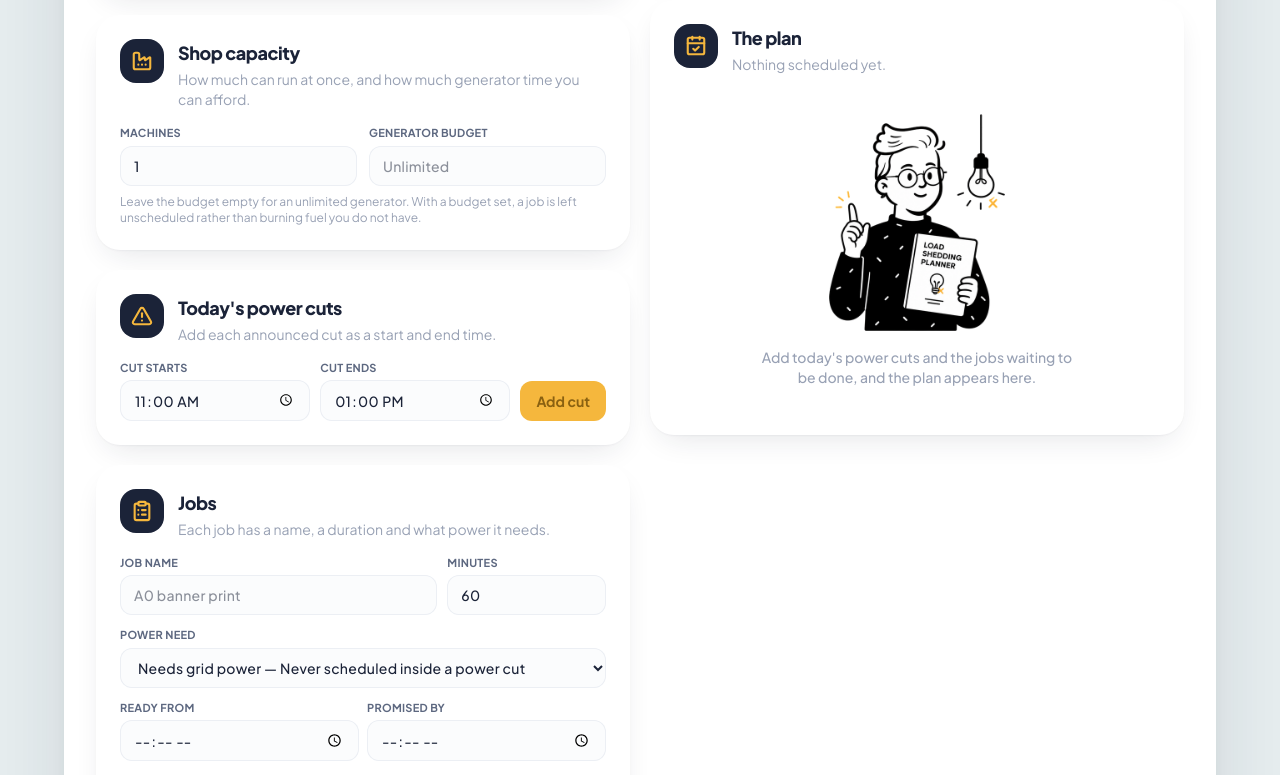
the planner in a browser › reports a job that cannot be scheduled instead of hiding it
(page scrolled)
Replace the text in the time field labelled "Cut starts" with "10:00": (215,401) [120,380,310,421]
Replace the text in the time field labelled "Cut ends" with "20:00": (415,401) [320,380,510,421]
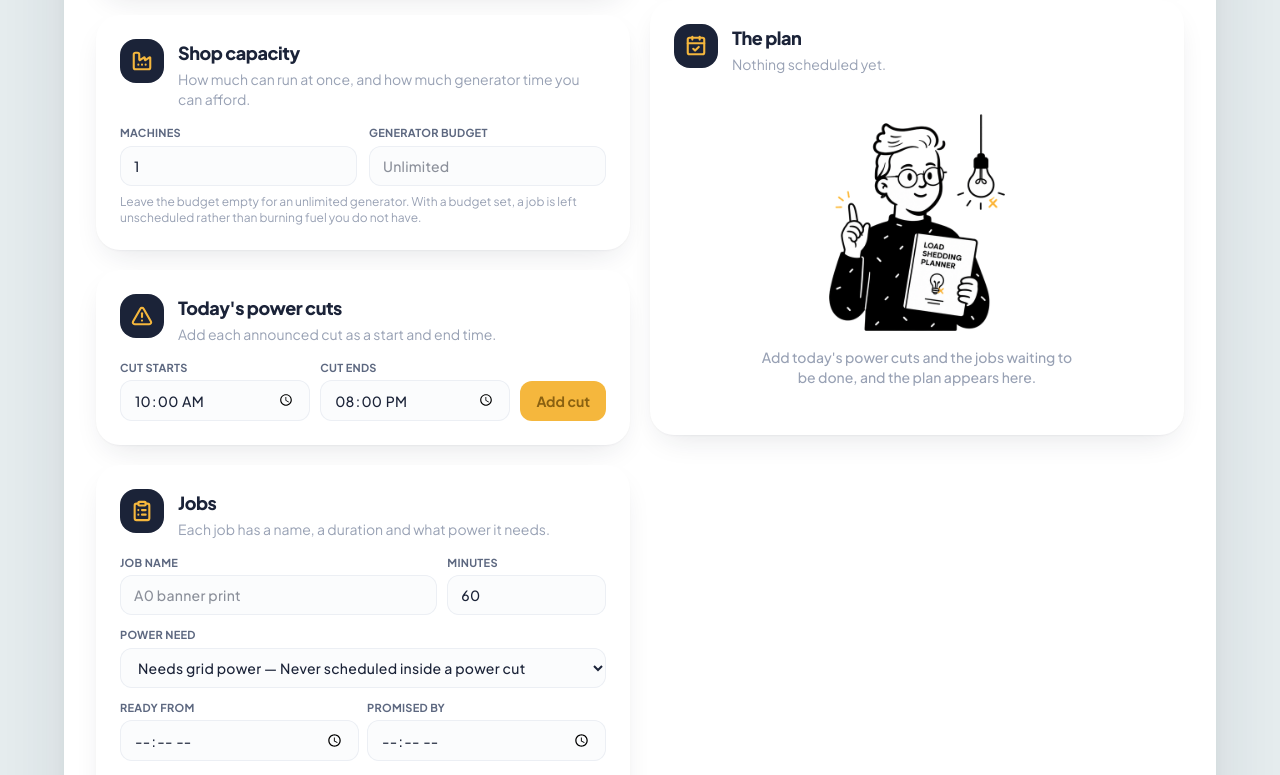
Click the button "Add cut": (563,401) [520,381,606,421]
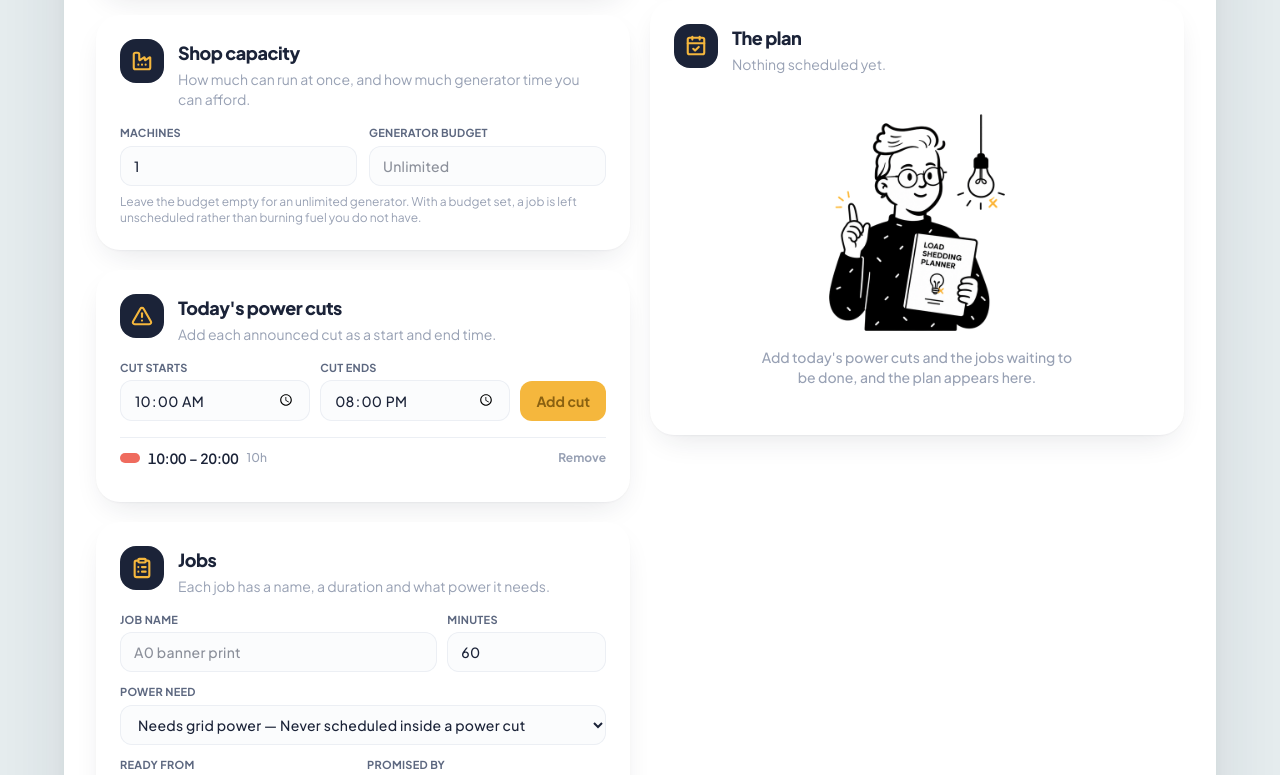
In the field with placeholder "A0 banner print": (279,652) [120,632,437,672], type "Large format poster"
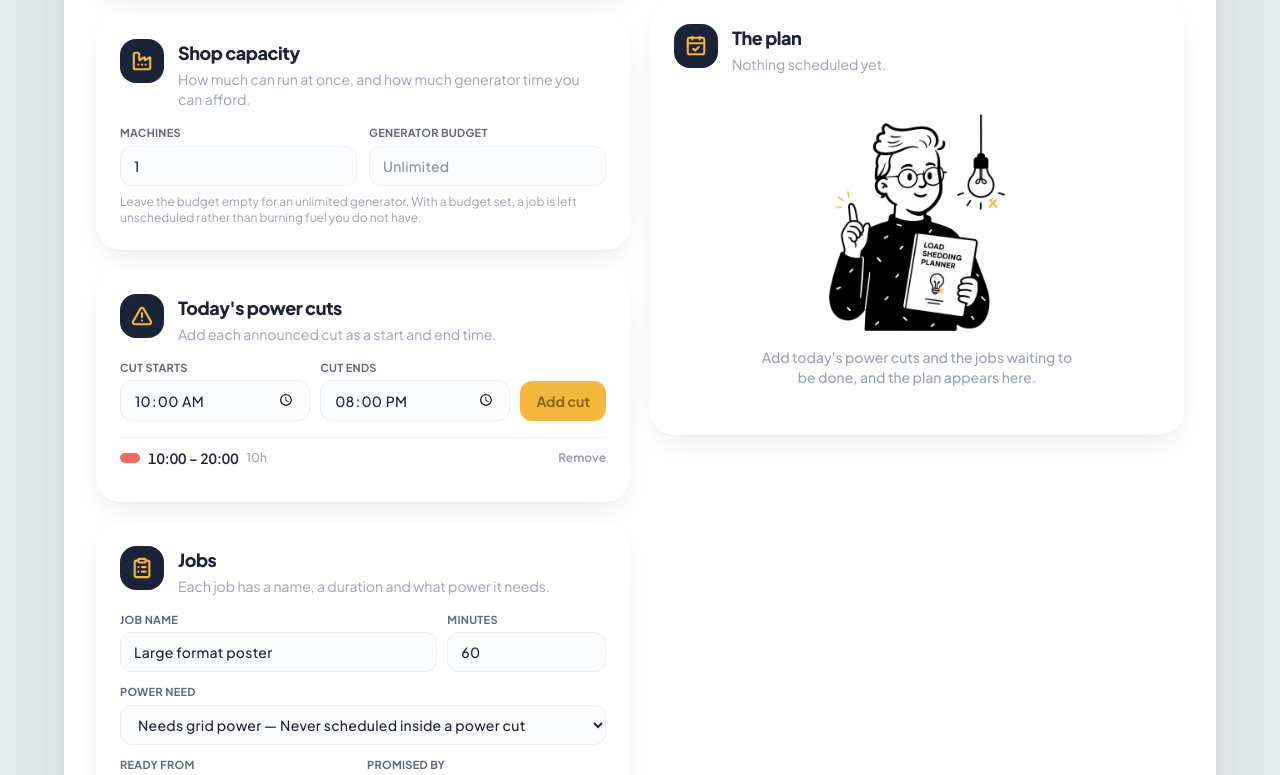
Replace the text in the number field labelled "Minutes" with "300": (527,652) [447,632,606,672]
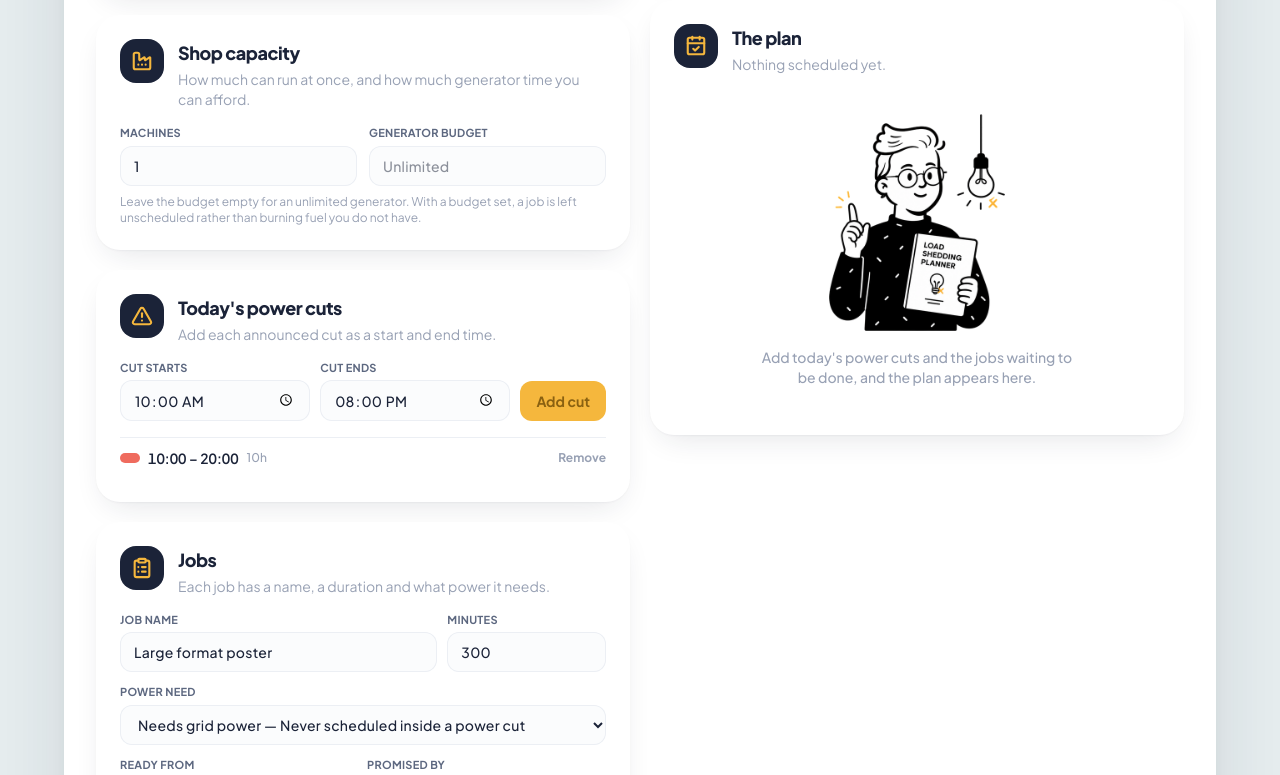
Select "Needs grid power — Never scheduled inside a power cut" in the dropdown labelled "Power need": (363,725) [120,705,606,745]
(page scrolled)
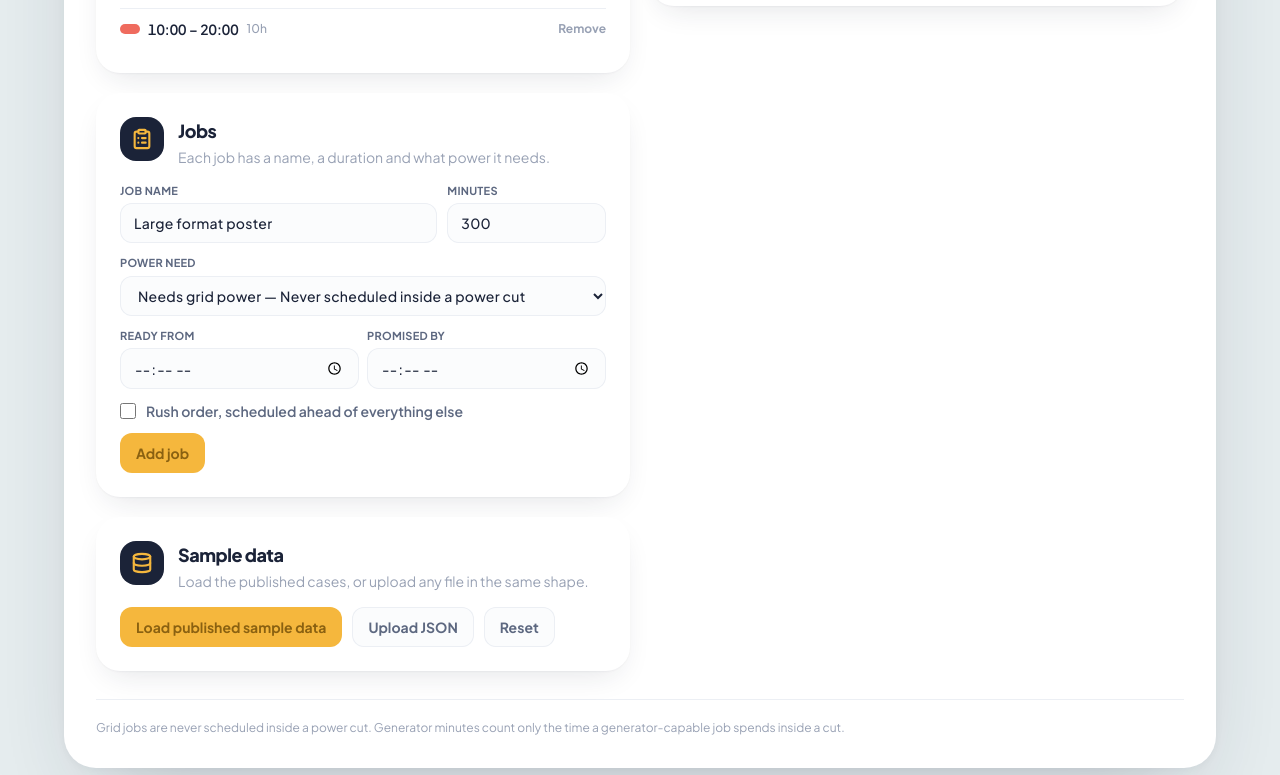
Click the button "Add job": (163,453) [120,433,205,473]
(page scrolled)
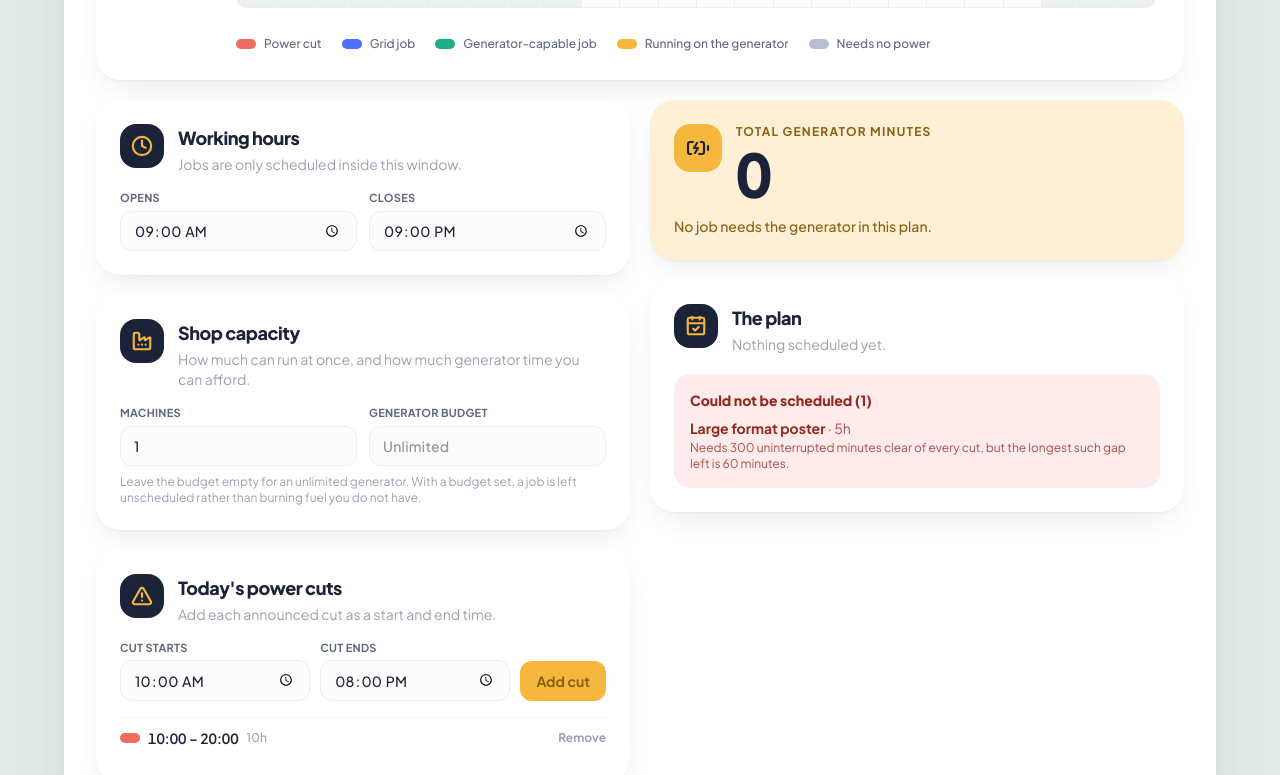
Check: the heading "Could not be scheduled (1)" is shown, box [690,391,872,409]
